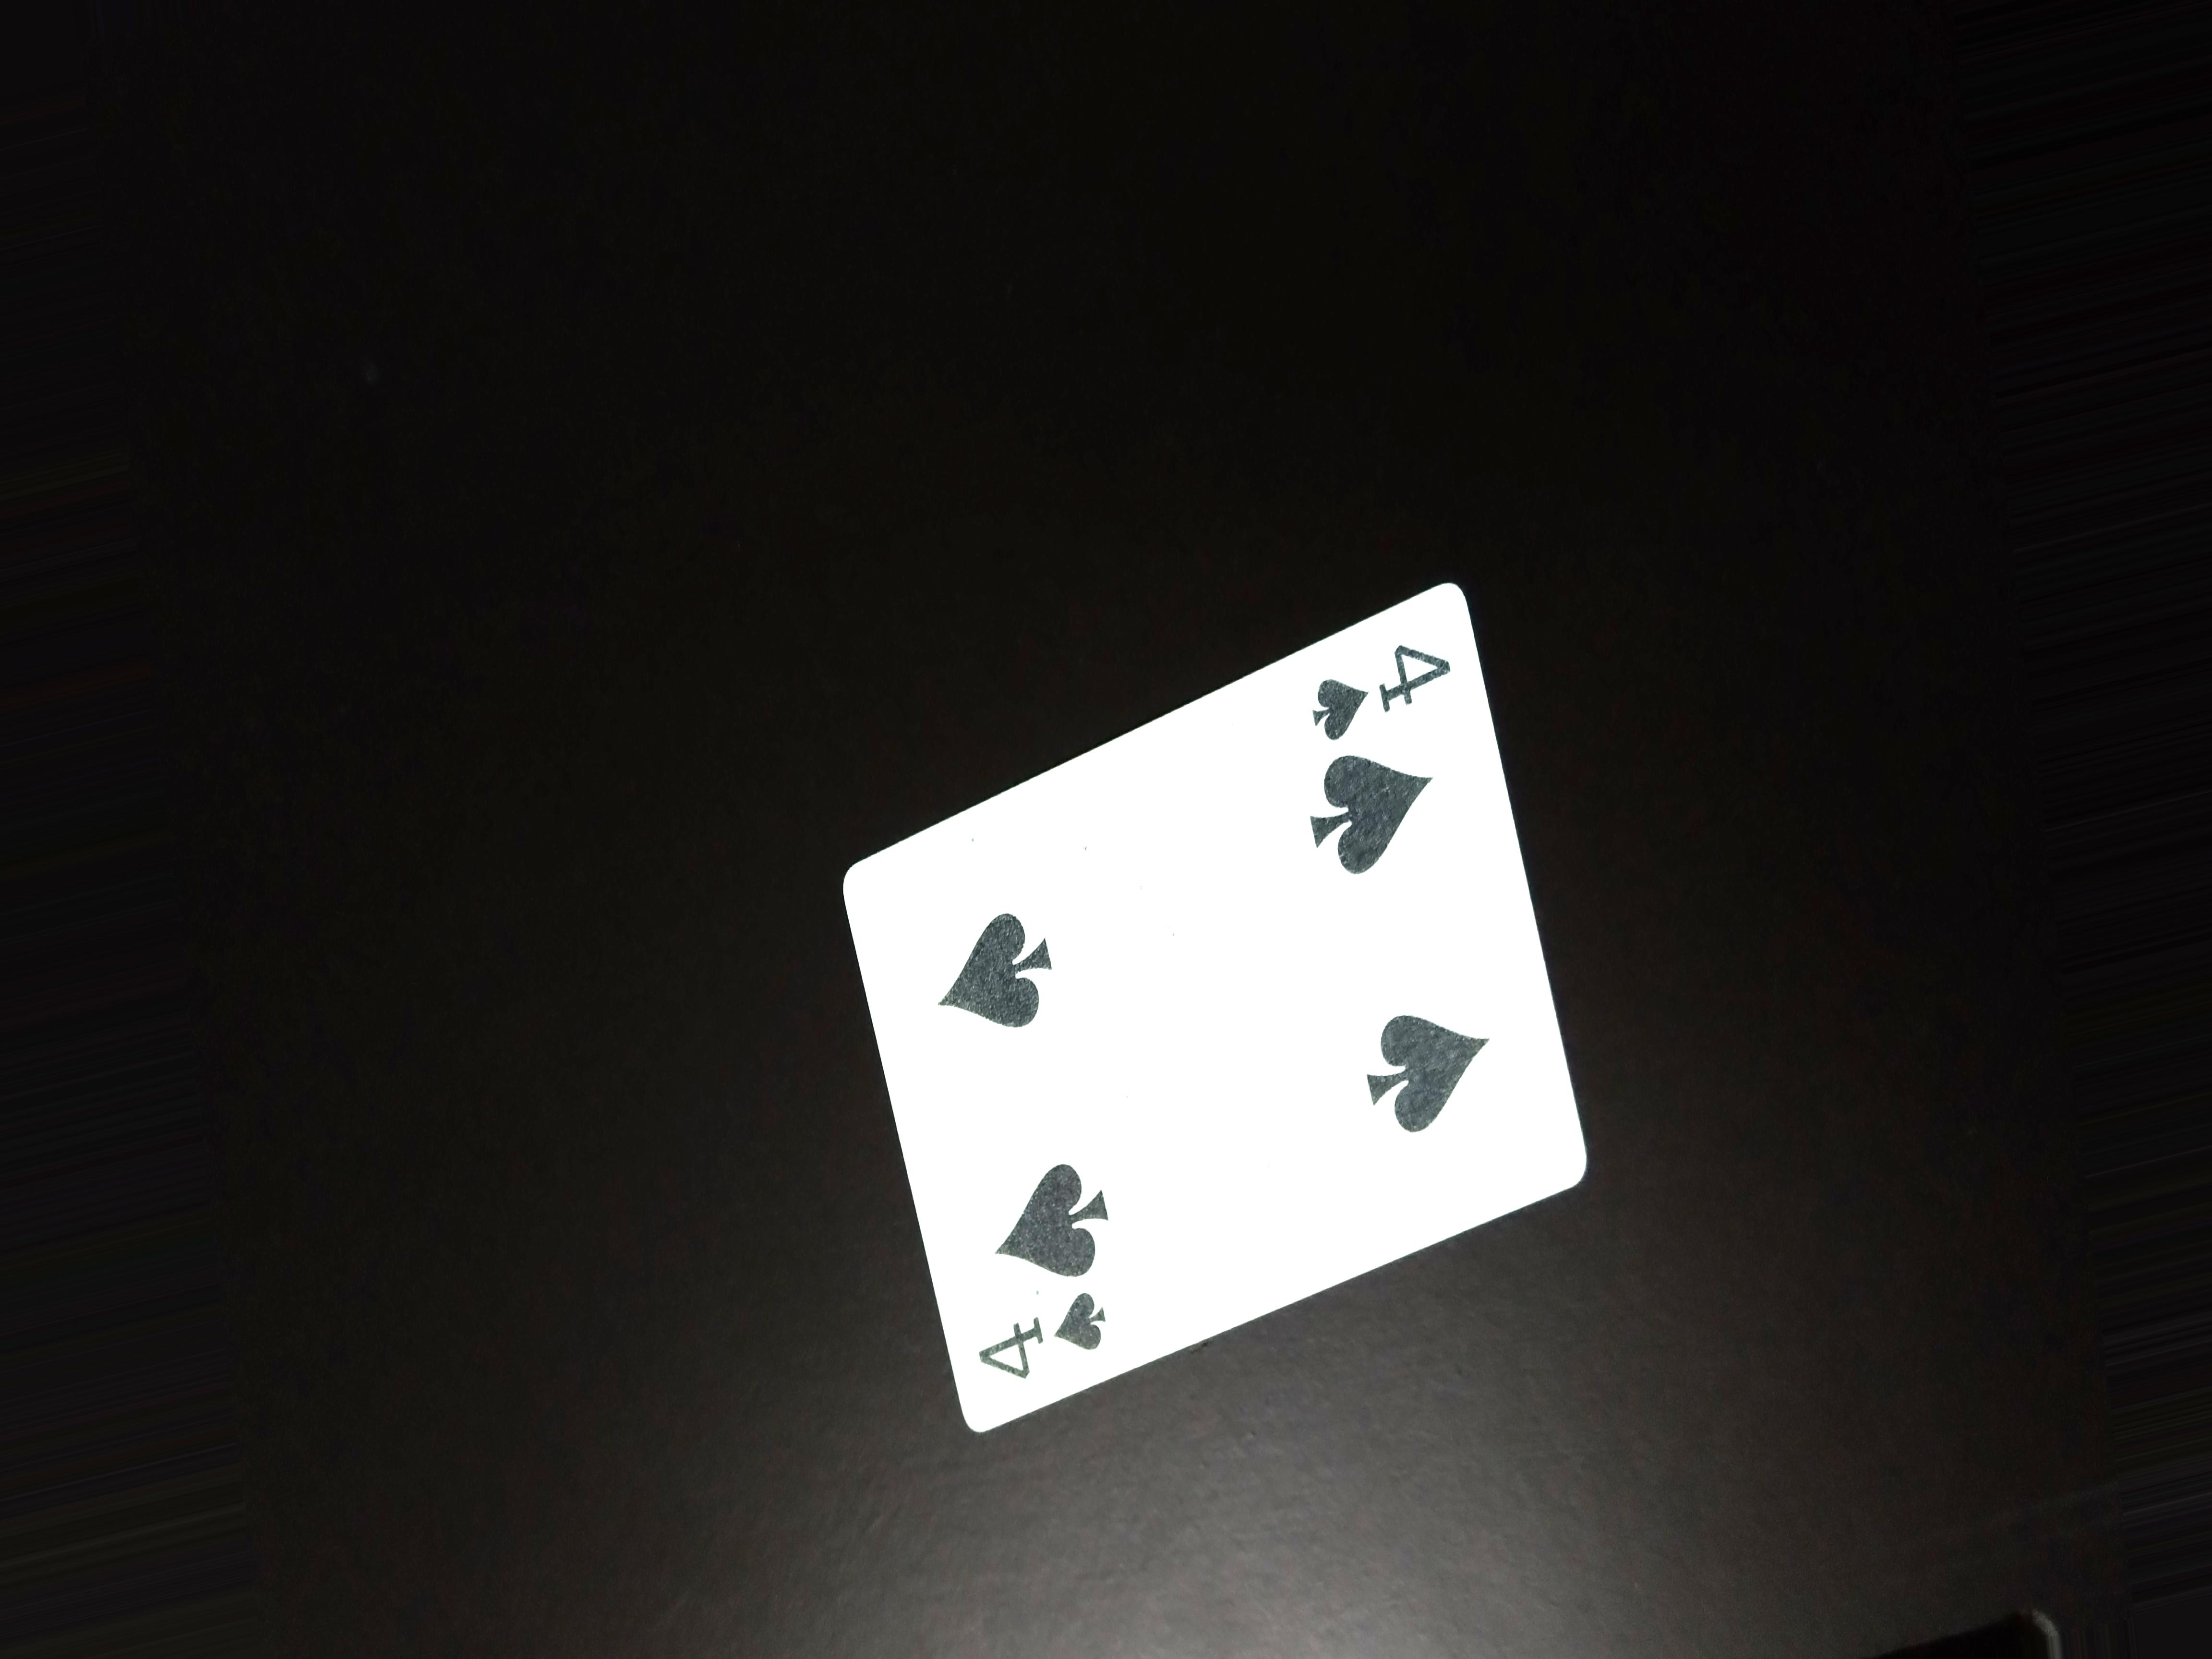4S: (1310, 634, 1446, 753)
